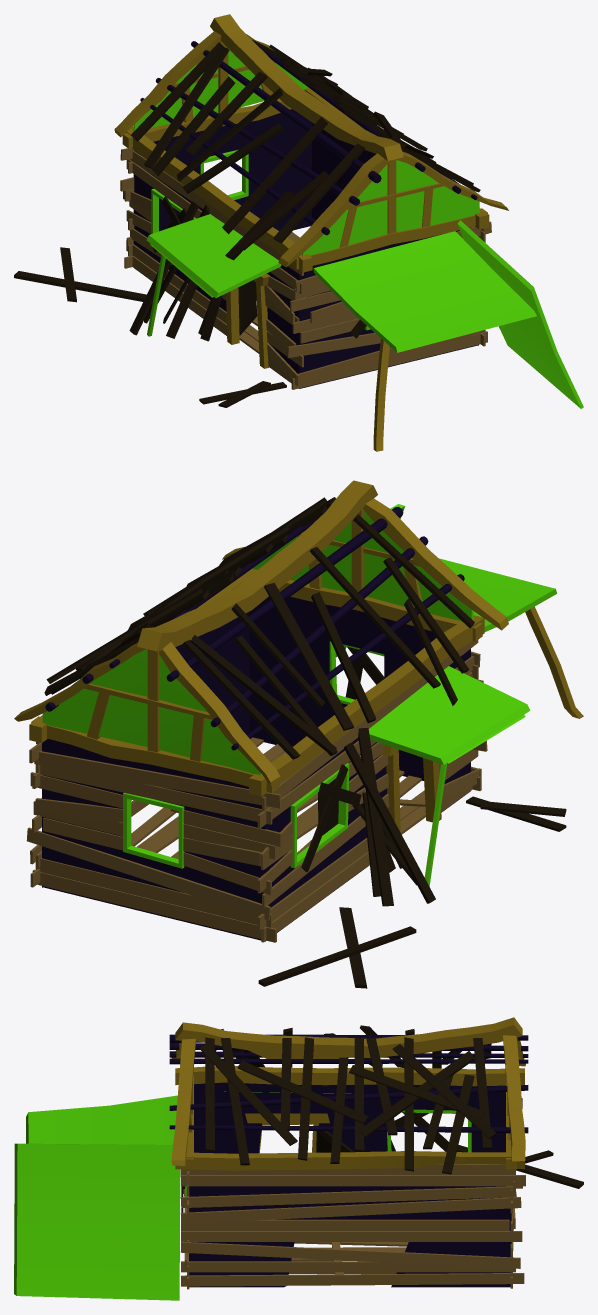
Rendered from New cabane Low.FBX.
3 renders of one model, top to bottom at view 1: azimuth 30°, elevation 25°; view 2: azimuth 150°, elevation 25°; view 3: azimuth 270°, elevation 25°, orthographic. The views are drawn at different scales.
Parts seen in each view (by area): view 1: face fenetre001, Object007, Poutre, planches batisse, Mur1; view 2: planches batisse, Poutre, Object007, face fenetre001, Mur1; view 3: planches batisse, face fenetre001, Mur1, Object007, Poutre.
Part boxes in pixels (x1,y1,x2,y2): face fenetre001: [133, 49, 583, 408]; Object007: [14, 40, 480, 407]; Poutre: [114, 14, 508, 451]; planches batisse: [120, 148, 491, 389]; Mur1: [133, 41, 478, 388]; planches batisse: [26, 640, 487, 942]; Poutre: [14, 480, 583, 832]; Object007: [44, 497, 566, 988]; face fenetre001: [42, 504, 556, 886]; Mur1: [42, 506, 470, 941]; planches batisse: [180, 1098, 525, 1289]; face fenetre001: [14, 1091, 471, 1300]; Mur1: [169, 1034, 528, 1287]; Object007: [181, 1025, 583, 1212]; Poutre: [171, 1017, 525, 1170].
Size of the model in its own units: 770 by 555 by 1271.
